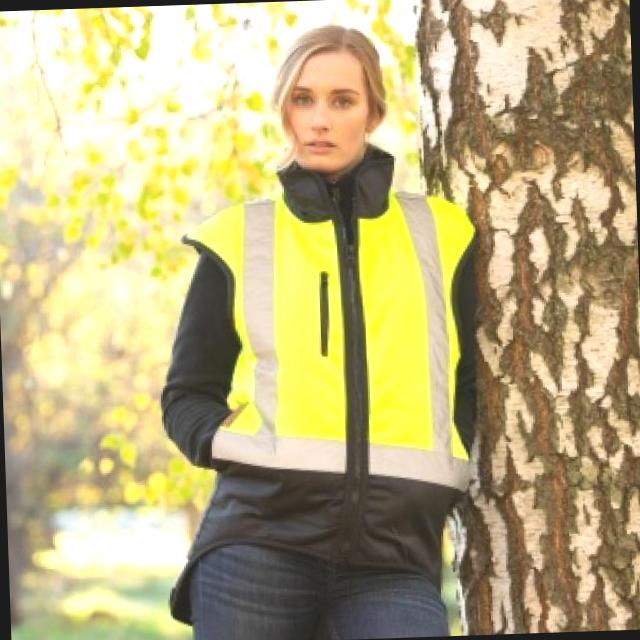no-helmet: (240, 14, 410, 196)
vest: (192, 191, 473, 530)
